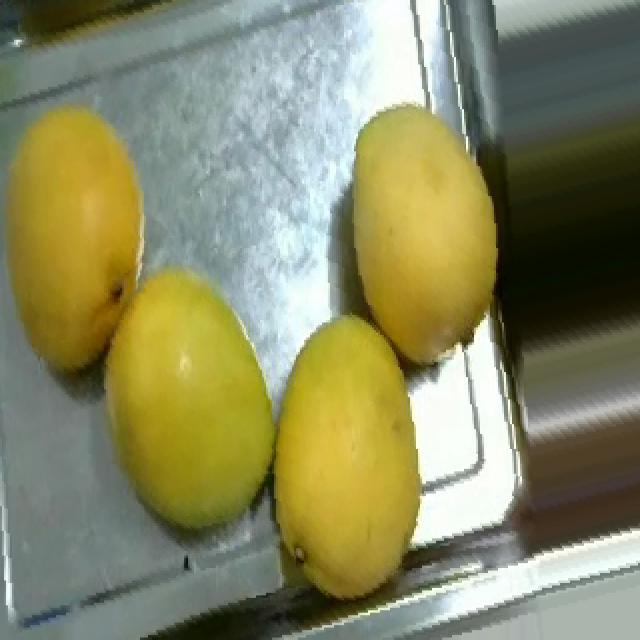mango: (102, 265, 274, 531), (272, 312, 420, 600), (350, 99, 498, 365), (4, 104, 144, 372)
